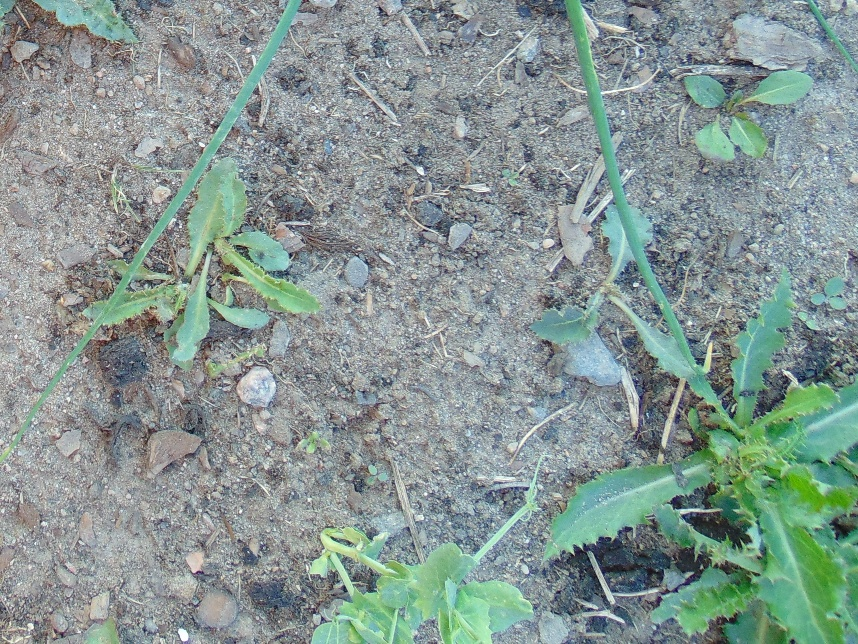crop: (309, 485, 539, 644)
weed: (550, 272, 858, 644), (81, 155, 317, 361), (537, 204, 687, 378), (679, 64, 815, 168), (1, 1, 139, 43)
